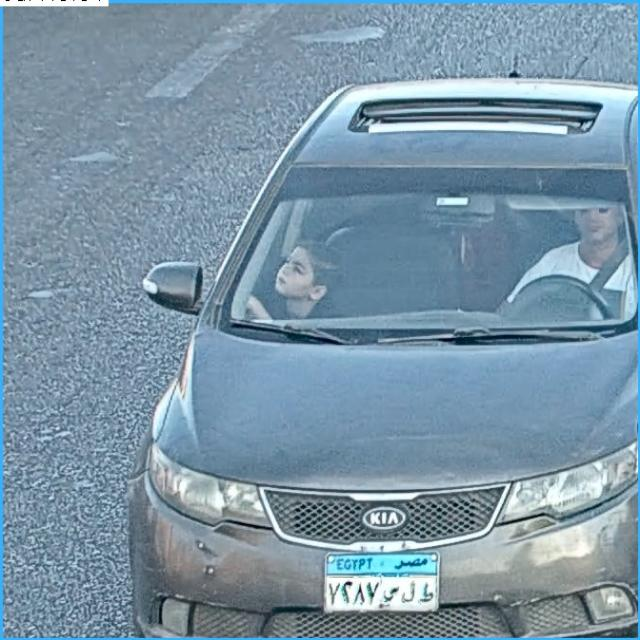windshield: (216, 167, 636, 334)
